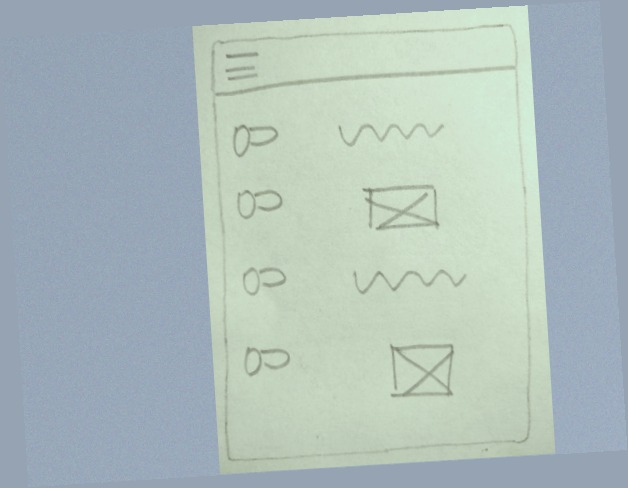image: (360, 173, 442, 238), (379, 337, 461, 402)
switch: (231, 179, 288, 222), (236, 259, 293, 302), (227, 118, 284, 160), (238, 341, 295, 383)
text: (334, 112, 456, 155), (347, 258, 469, 301)
